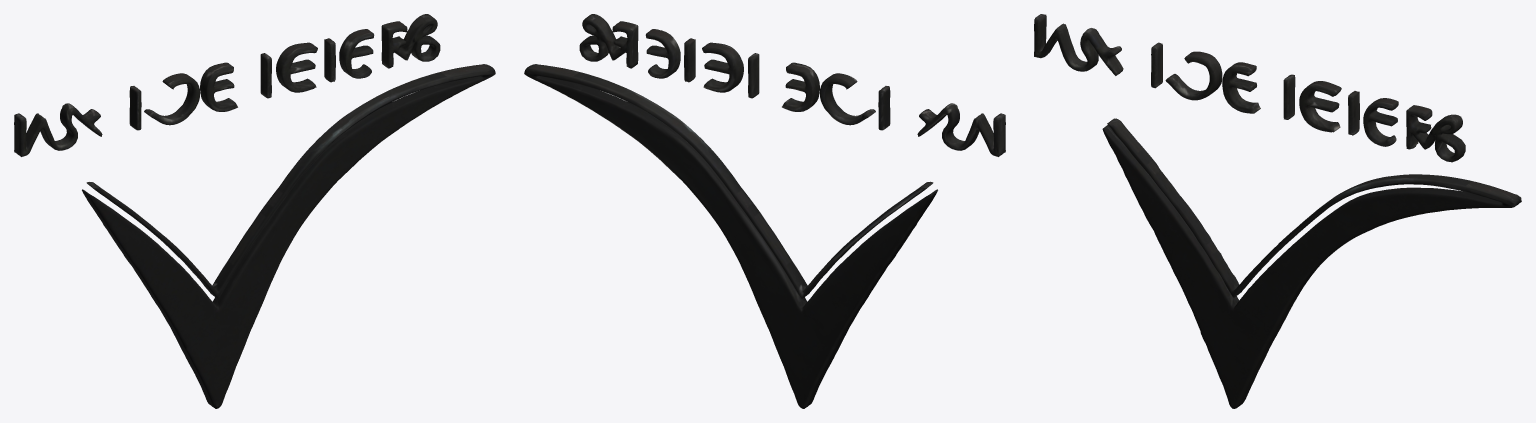
The model's file is verofax_verovision.glb.
The picture shows the model from 3 angles, left to right: view 1: azimuth 30°, elevation 25°; view 2: azimuth 150°, elevation 25°; view 3: azimuth 330°, elevation 25°; orthographic projection.
Bounding box in the file's own units: 2 × 1.36 × 0.0607.
1 material, 1 textured.
